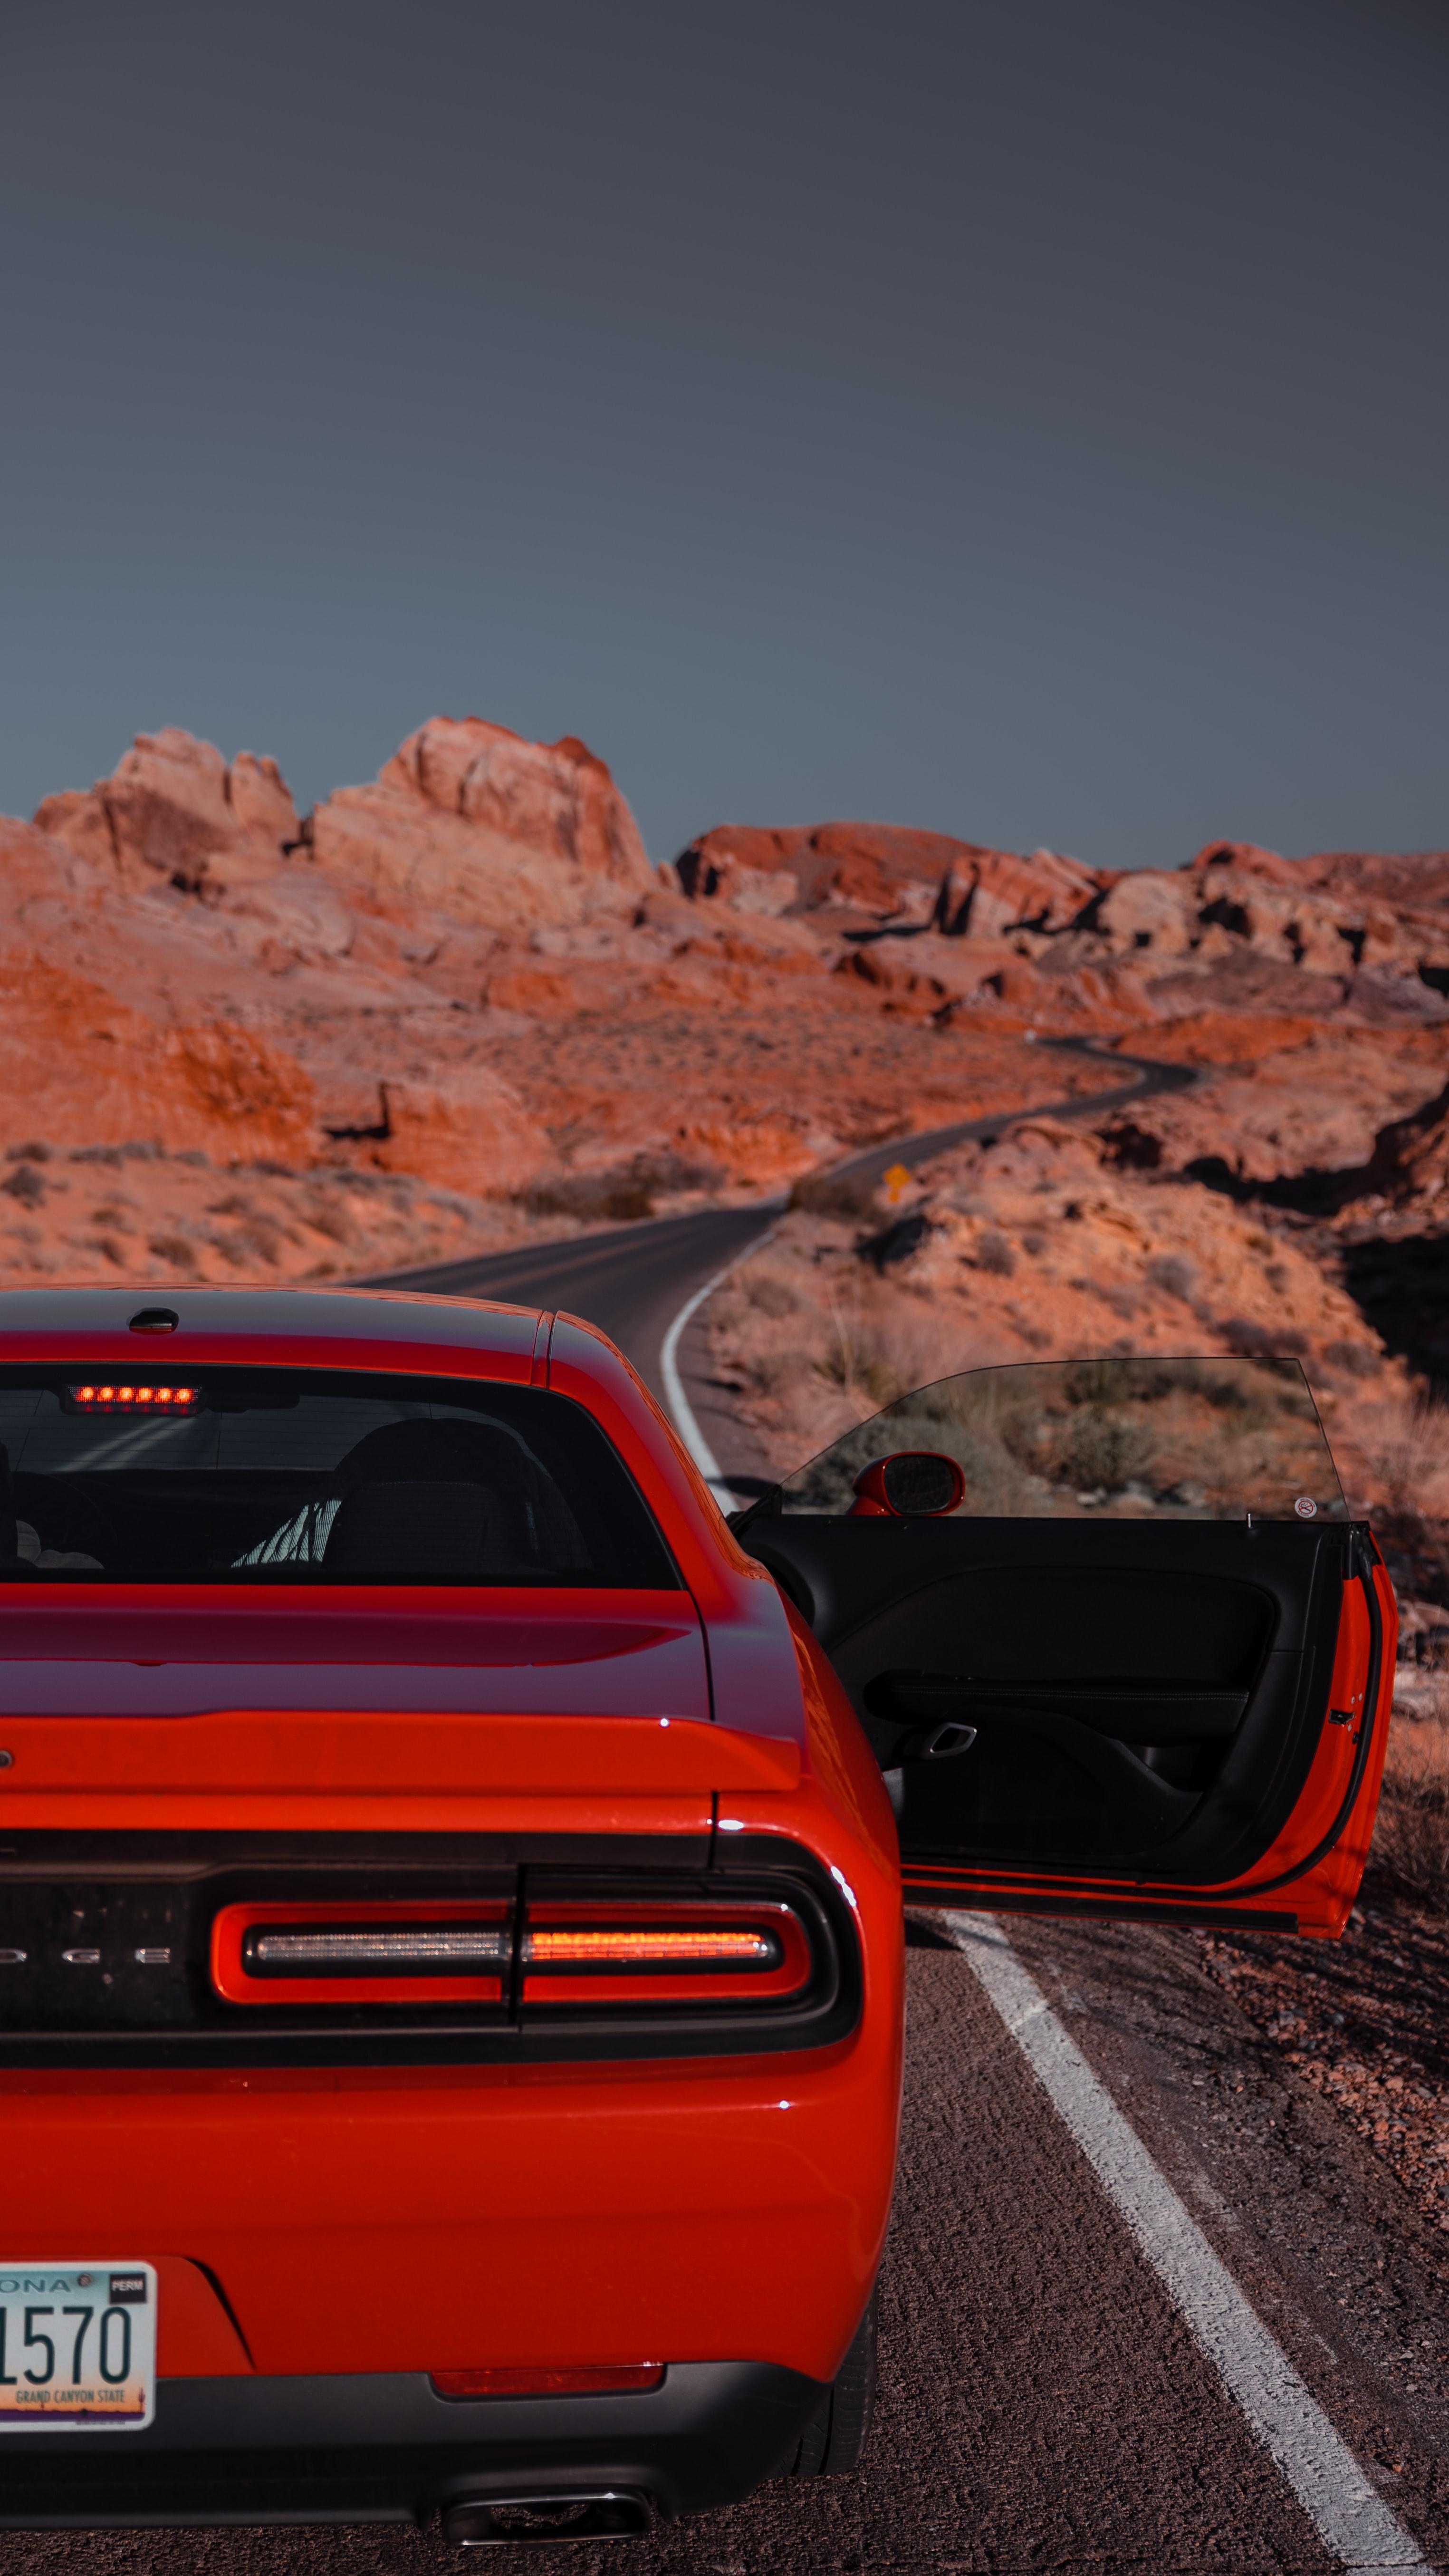dodge: (0, 1909, 221, 2013)
